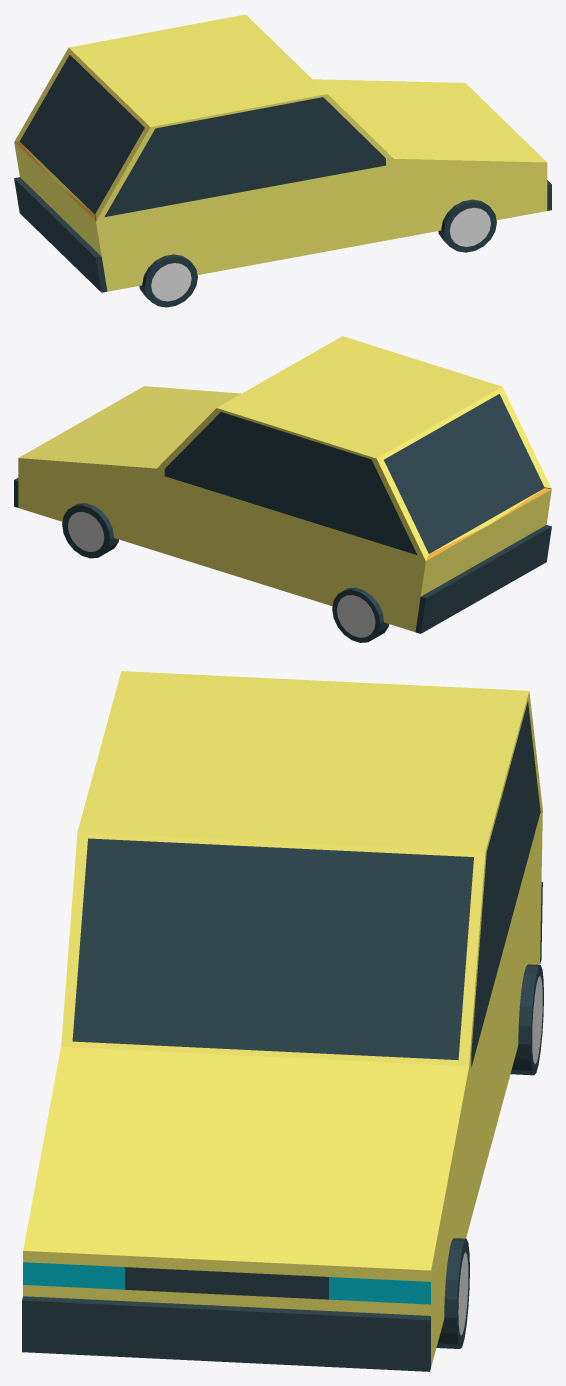
Rendered from car_03_2_world_ap_0_lev1.glb.
3 views of the same model, one above another, from view 1: azimuth 30°, elevation 25°; view 2: azimuth 150°, elevation 25°; view 3: azimuth 270°, elevation 25° (orthographic). The views are drawn at different scales.
Parts seen in each view (by area): view 1: car_03_2_world_ap_0_lev1; view 2: car_03_2_world_ap_0_lev1; view 3: car_03_2_world_ap_0_lev1.
Part boxes in pixels (bbox=[...]): car_03_2_world_ap_0_lev1: bbox=[14, 14, 551, 307]; car_03_2_world_ap_0_lev1: bbox=[14, 336, 551, 642]; car_03_2_world_ap_0_lev1: bbox=[22, 671, 543, 1371].
Size of the model in its own units: 1.56 by 0.6023 by 0.7873.
1 material, 1 textured.
